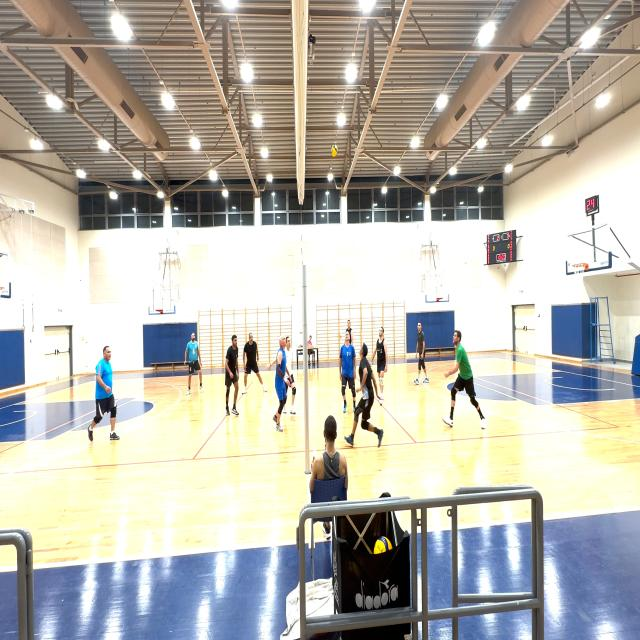volleyball: (373, 536, 393, 555), (331, 144, 338, 158)
